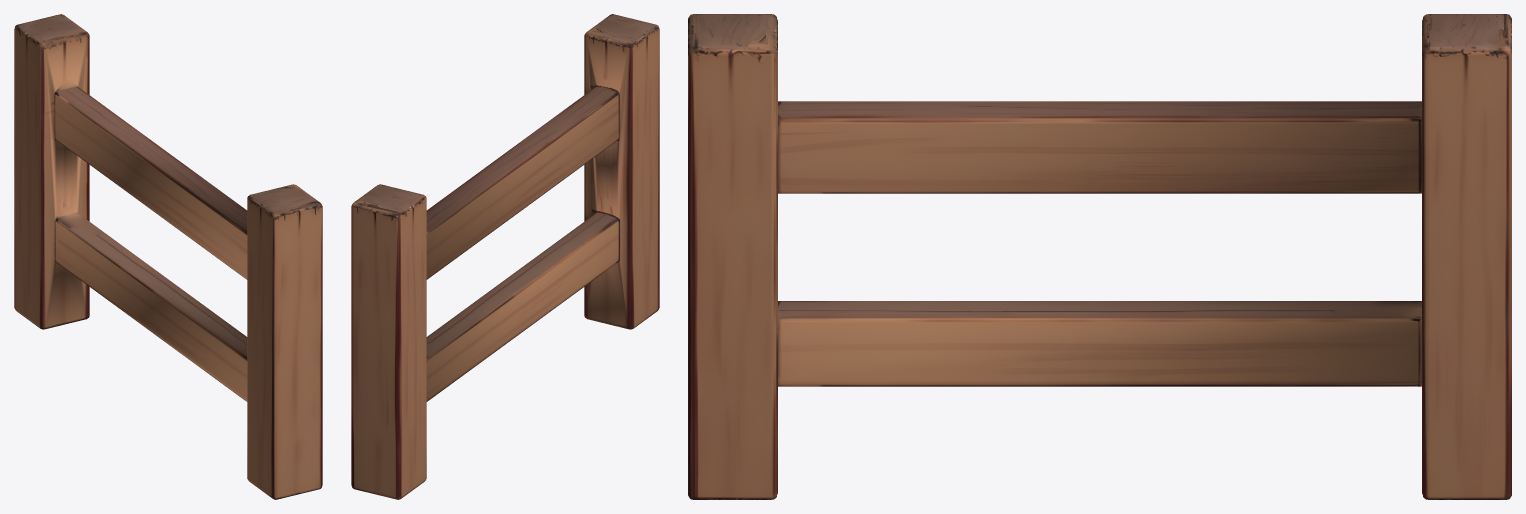
The model's file is Valla.fbx.
3 renders of one model, left to right at view 1: azimuth 30°, elevation 25°; view 2: azimuth 150°, elevation 25°; view 3: azimuth 270°, elevation 25°, orthographic. The views are drawn at different scales.
Parts seen in each view (by area): view 1: mesh_rep_0_ori_repair_quad; view 2: mesh_rep_0_ori_repair_quad; view 3: mesh_rep_0_ori_repair_quad.
Boxes of the visible parts, x1,y1,x2,y2 form: mesh_rep_0_ori_repair_quad: [14, 14, 322, 499]; mesh_rep_0_ori_repair_quad: [351, 14, 659, 499]; mesh_rep_0_ori_repair_quad: [688, 14, 1511, 499].
Bounding box in the file's own units: 55.11 × 308 × 505.
1 material, 1 textured.
